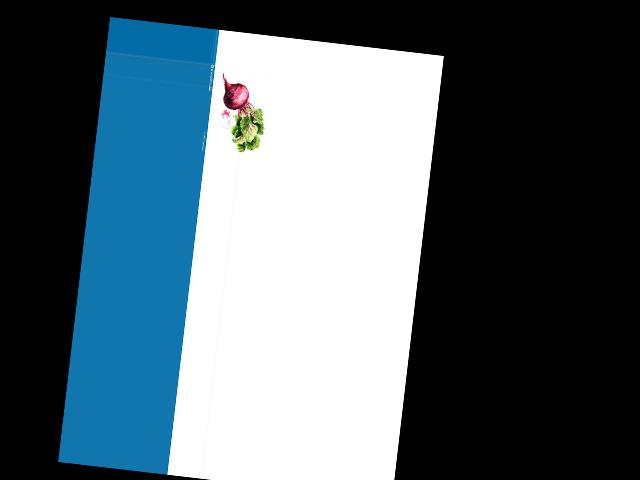beet: (213, 73, 269, 155)
